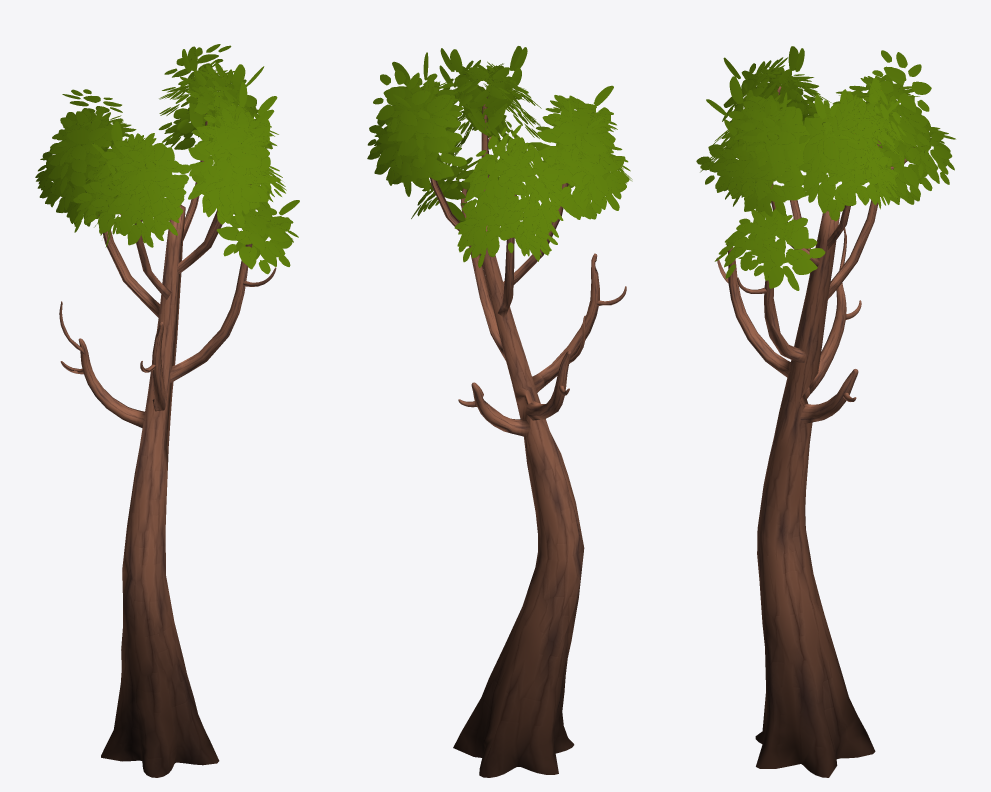
Rendered from CommonTree_4_lod.gltf.
3 renders of one model, left to right at view 1: azimuth 30°, elevation 25°; view 2: azimuth 150°, elevation 25°; view 3: azimuth 270°, elevation 25°, orthographic. The views are drawn at different scales.
Parts seen in each view (by area): view 1: CommonTree_4; view 2: CommonTree_4; view 3: CommonTree_4.
Part boxes in pixels (left/top/right/bottom): CommonTree_4: left=35, top=44, right=299, bottom=777; CommonTree_4: left=367, top=46, right=632, bottom=777; CommonTree_4: left=696, top=46, right=955, bottom=777.
Bounding box in the file's own units: 3.44 × 9.11 × 3.4.
2 materials, 2 textured.
